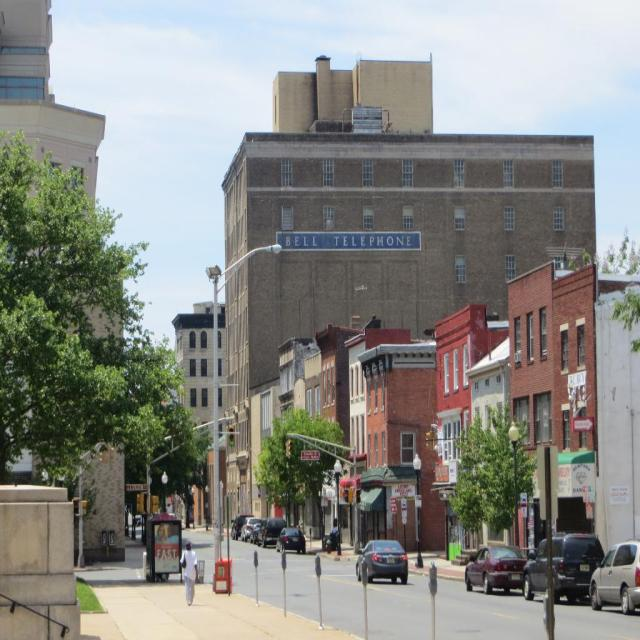car: (519, 531, 607, 608), (463, 546, 529, 592), (354, 534, 408, 584)
